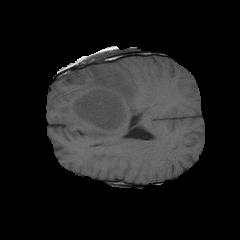glioma: (57, 64, 145, 138)
